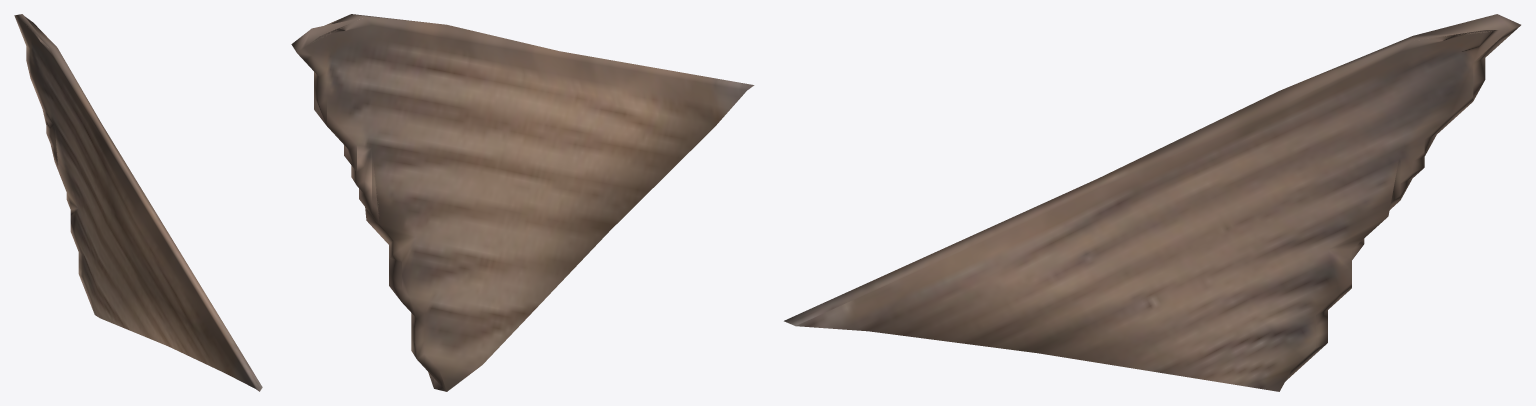
File: DorsalFin.glb
The picture shows the model from 3 angles, left to right: view 1: azimuth 30°, elevation 25°; view 2: azimuth 150°, elevation 25°; view 3: azimuth 270°, elevation 25°; orthographic projection. The views are drawn at different scales.
Parts seen in each view (by area): view 1: world; view 2: world; view 3: world.
Boxes of the visible parts, box(x1,y1,x2,y2) form: world: box(14, 14, 262, 391); world: box(291, 14, 754, 391); world: box(784, 14, 1520, 391).
Size of the model in its own units: 0.00586 by 0.0664 by 0.1191.
Materials: 1 (1 with a texture image).
